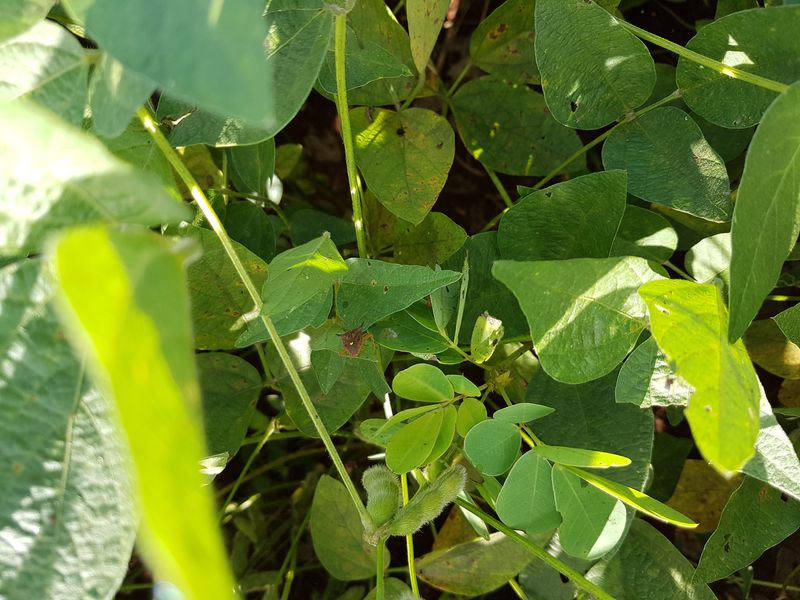Euschistus_heros_adulto: (328, 316, 382, 370)
